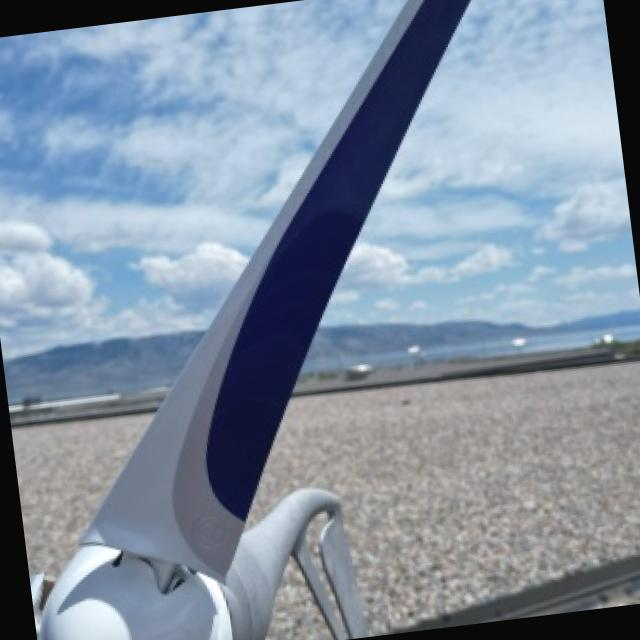healthy: (36, 0, 471, 640), (443, 391, 640, 590)
